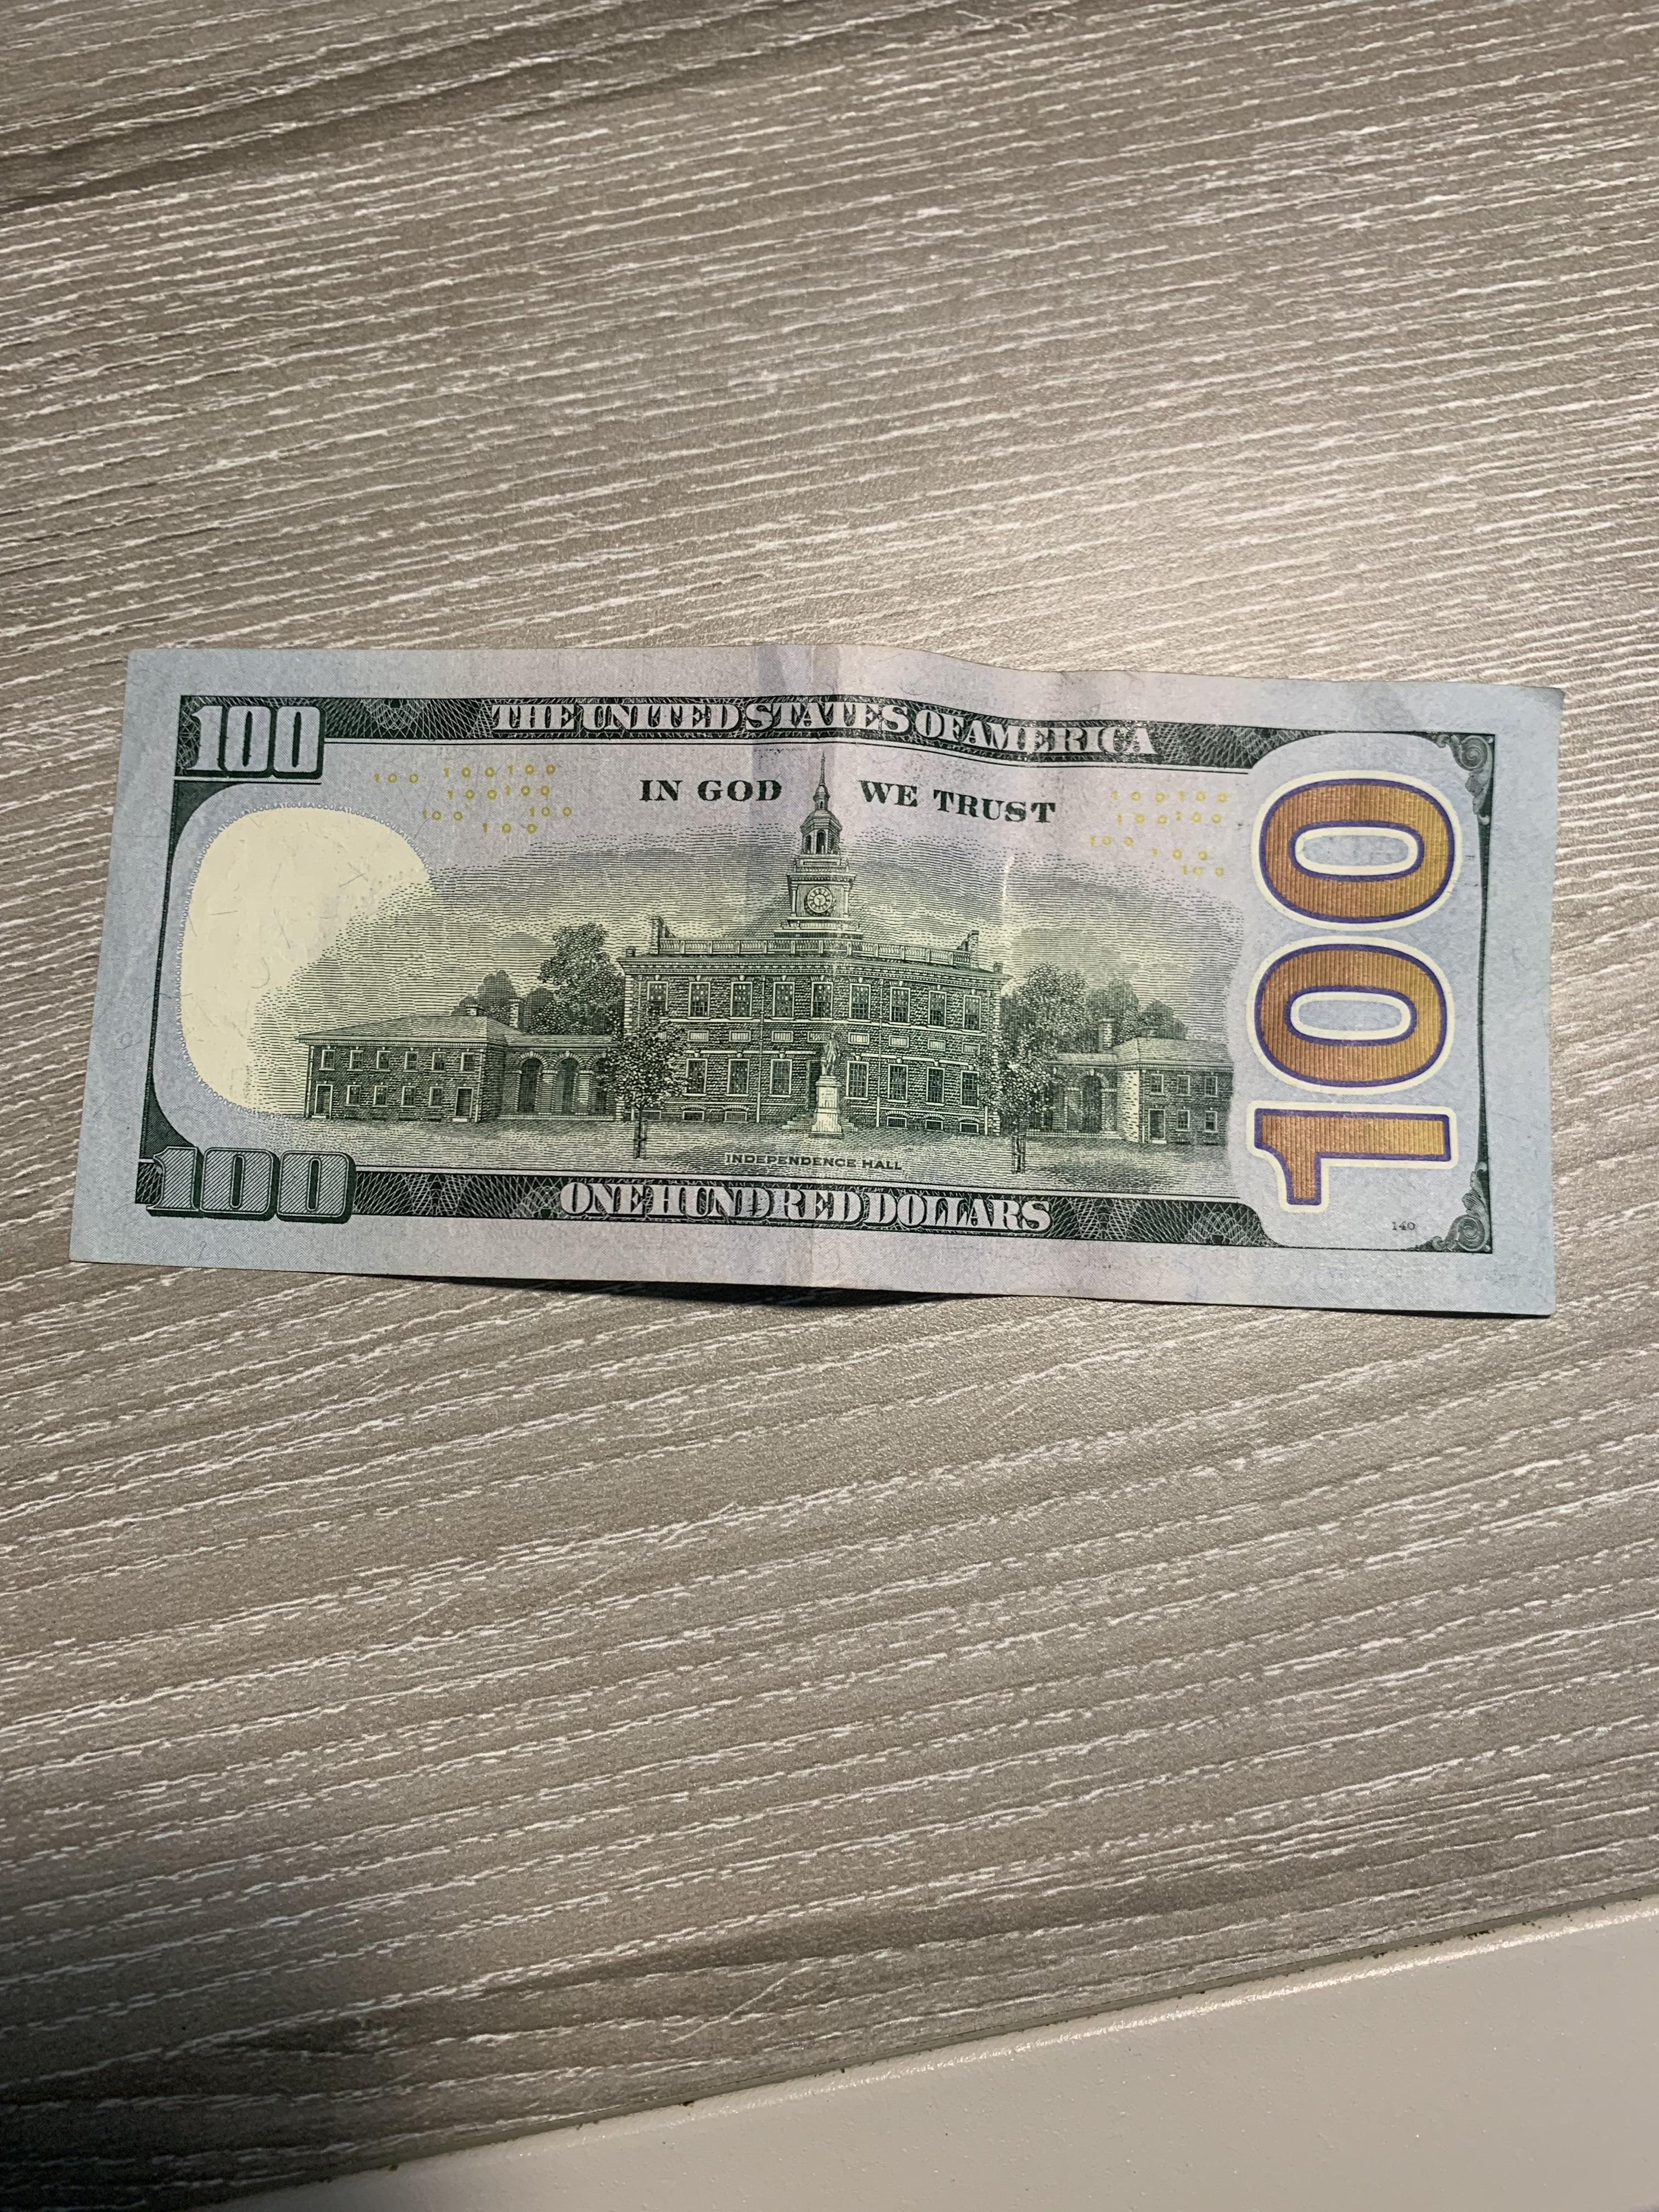HundredBill: (56, 631, 1595, 1325)
